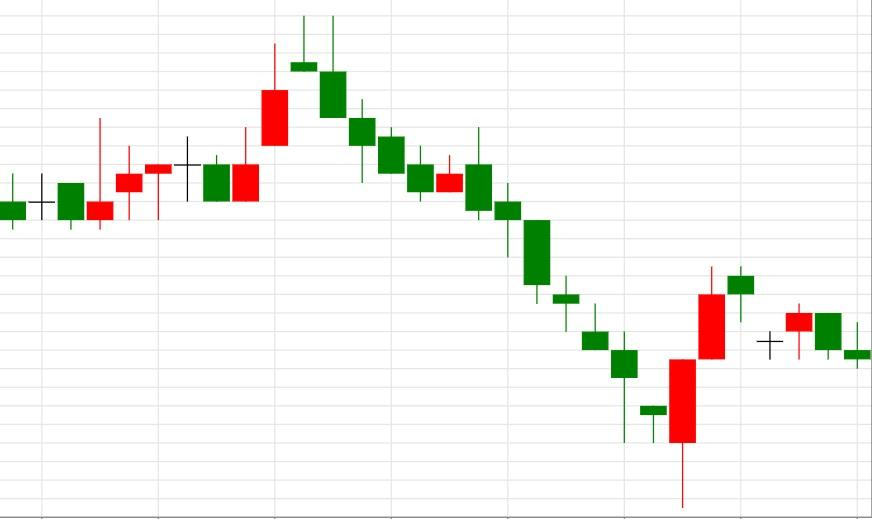three_black_crows_fall: (201, 16, 377, 203)
